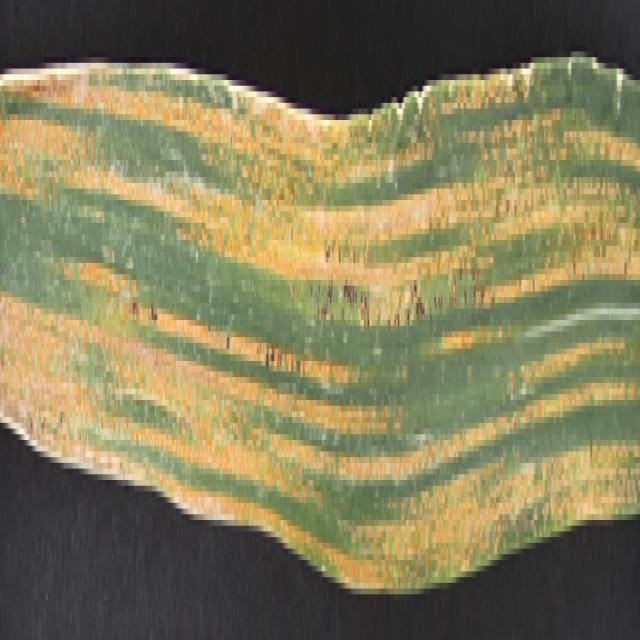leaf rust: (1, 103, 640, 577)
